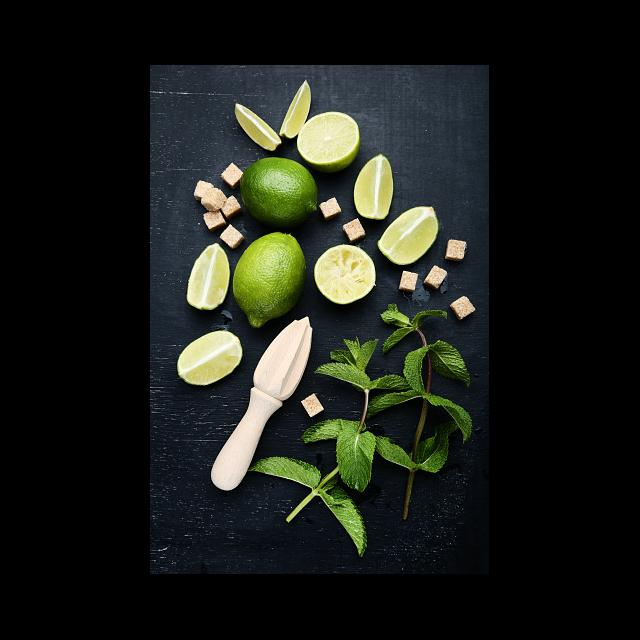lime: (221, 227, 314, 331), (234, 153, 323, 226)
